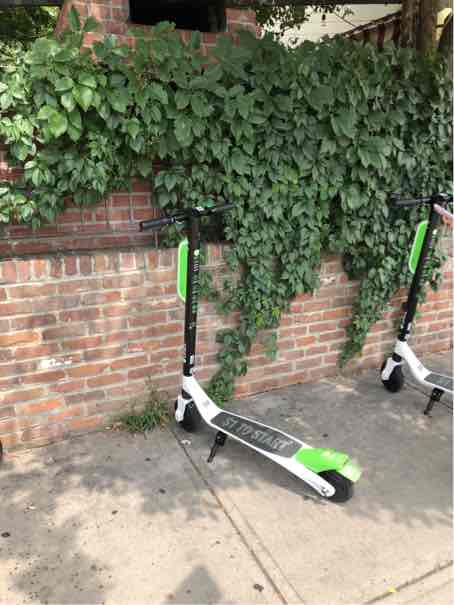scooter: (126, 195, 361, 507)
